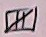kok: (1, 2, 46, 36)
